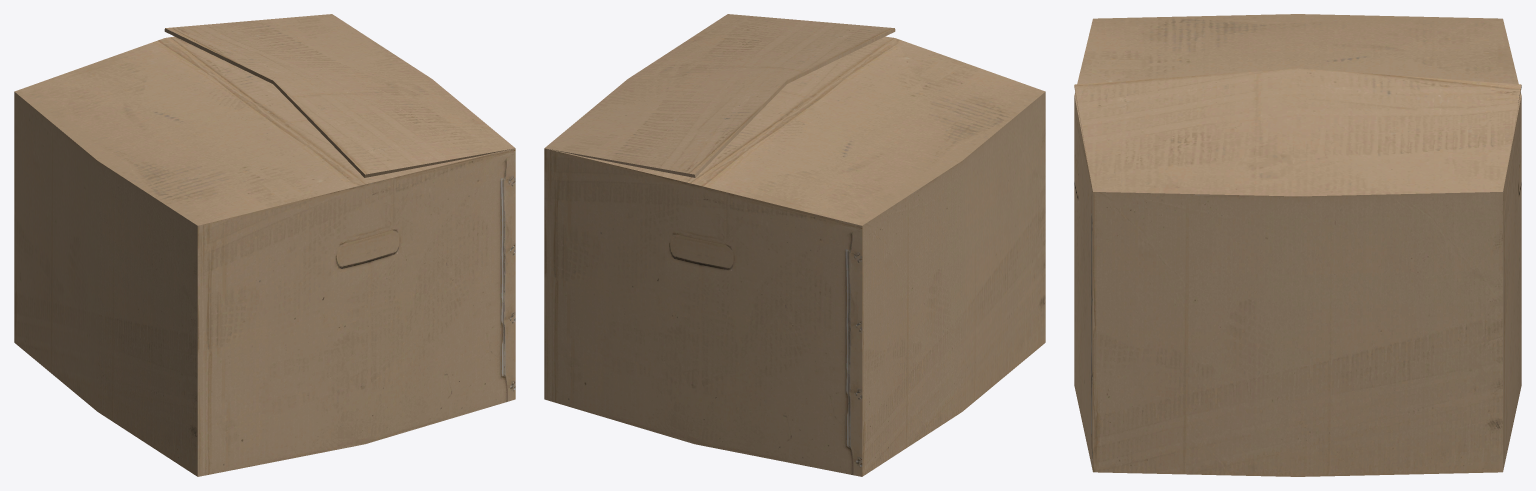
3 renders of one model, left to right at view 1: azimuth 30°, elevation 25°; view 2: azimuth 150°, elevation 25°; view 3: azimuth 270°, elevation 25°, orthographic. The views are drawn at different scales.
Parts seen in each view (by area): view 1: BoxClosed, BoxOpened; view 2: BoxClosed, BoxOpened; view 3: BoxClosed, BoxOpened.
Part boxes in pixels (x1,y1,x2,y2): BoxClosed: (14, 36, 515, 476); BoxOpened: (14, 14, 514, 184); BoxClosed: (544, 36, 1045, 476); BoxOpened: (545, 14, 962, 225); BoxClosed: (1074, 14, 1521, 476); BoxOpened: (1074, 14, 1521, 196).
Size of the model in its own units: 211 by 173 by 218.
